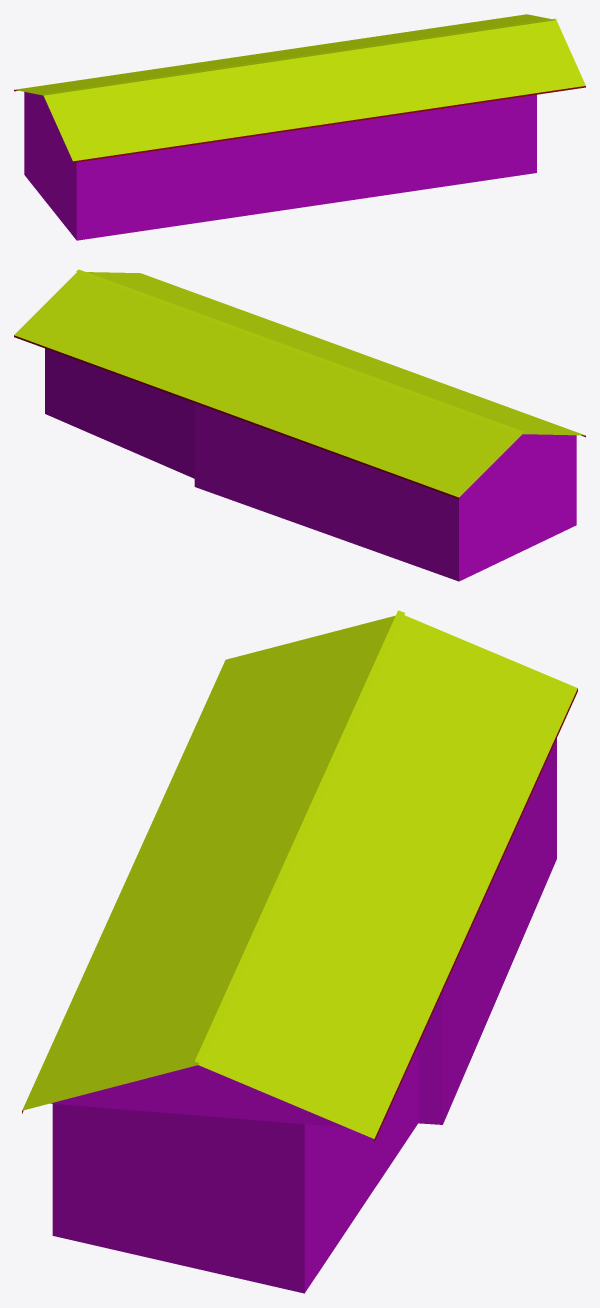
The model's file is srz_19.glb.
3 renders of one model, top to bottom at view 1: azimuth 30°, elevation 25°; view 2: azimuth 150°, elevation 25°; view 3: azimuth 270°, elevation 25°, orthographic. The views are drawn at different scales.
Parts seen in each view (by area): view 1: srz_19; view 2: srz_19; view 3: srz_19.
Boxes of the visible parts, x1,y1,x2,y2 form: srz_19: (14, 14, 585, 240); srz_19: (14, 269, 585, 581); srz_19: (22, 610, 577, 1293).
Bounding box in the file's own units: 36.84 × 8.19 × 18.05.
